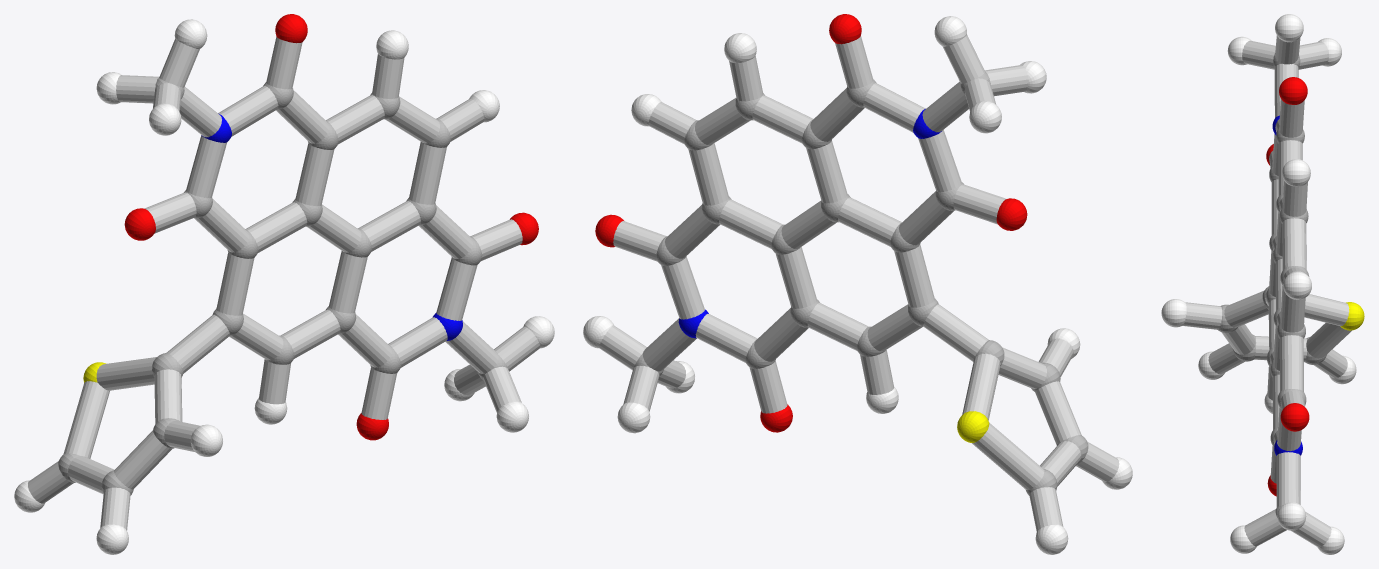
File: Dimethyl_Naphthalene_Dicarboximide_Phi_25_Theta_270_Thiophene.glb
3 views of the same model, side by side, from view 1: azimuth 30°, elevation 25°; view 2: azimuth 150°, elevation 25°; view 3: azimuth 270°, elevation 25° (orthographic). The views are drawn at different scales.
Visible parts, largest first — view 1: grp14119, grp7241, grp1, grp12309, grp11585; view 2: grp14119, grp7241, grp1, grp12309, grp13757, grp11585; view 3: grp14119, grp7241, grp1, grp12309, grp13757.
Boxes of the visible parts, x1,y1,x2,y2 form: grp14119: [28, 36, 540, 530]; grp7241: [14, 19, 554, 554]; grp1: [58, 77, 507, 495]; grp12309: [124, 14, 538, 440]; grp11585: [201, 113, 462, 340]; grp14119: [599, 35, 1119, 532]; grp7241: [583, 16, 1132, 554]; grp1: [634, 71, 1088, 495]; grp12309: [595, 14, 1027, 432]; grp13757: [957, 411, 989, 442]; grp11585: [678, 108, 941, 338]; grp14119: [1182, 35, 1351, 547]; grp7241: [1161, 14, 1356, 554]; grp1: [1218, 53, 1326, 517]; grp12309: [1266, 77, 1309, 496]; grp13757: [1340, 302, 1364, 330].
Size of the model in its own units: 10.79 by 9.75 by 4.23.
